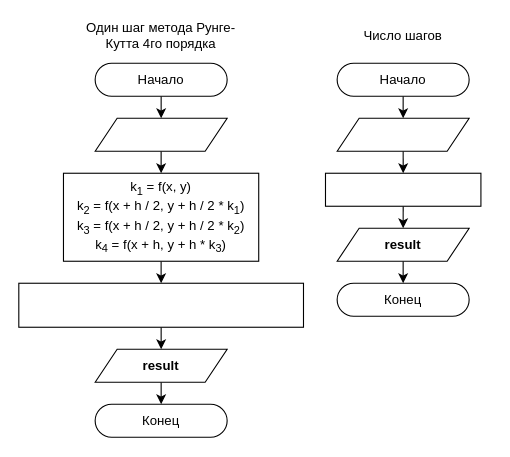
The diagram is 510 pixels wide and 457 high, and some of its shapes have lost their labels. The centre of each missing label's shape, as x and y in pixels:
"f, x, y, h" goes at pixel 160 134.
"result = [x n - x 0 ] / h" goes at pixel 402 189.
"result = y + h / 6 * (k 1 + 2 * k 2 + 2 * k 3 + k 4 )" goes at pixel 160 304.
"x 0 , x n , h" goes at pixel 402 134.
